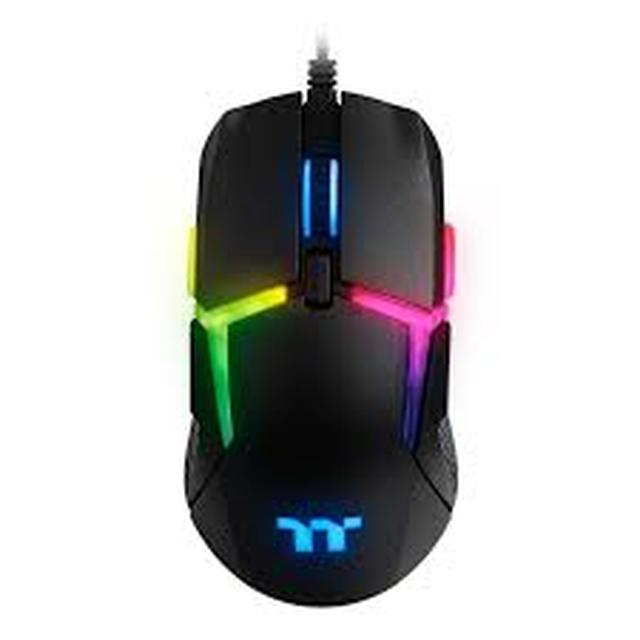mouse: (169, 39, 477, 600)
